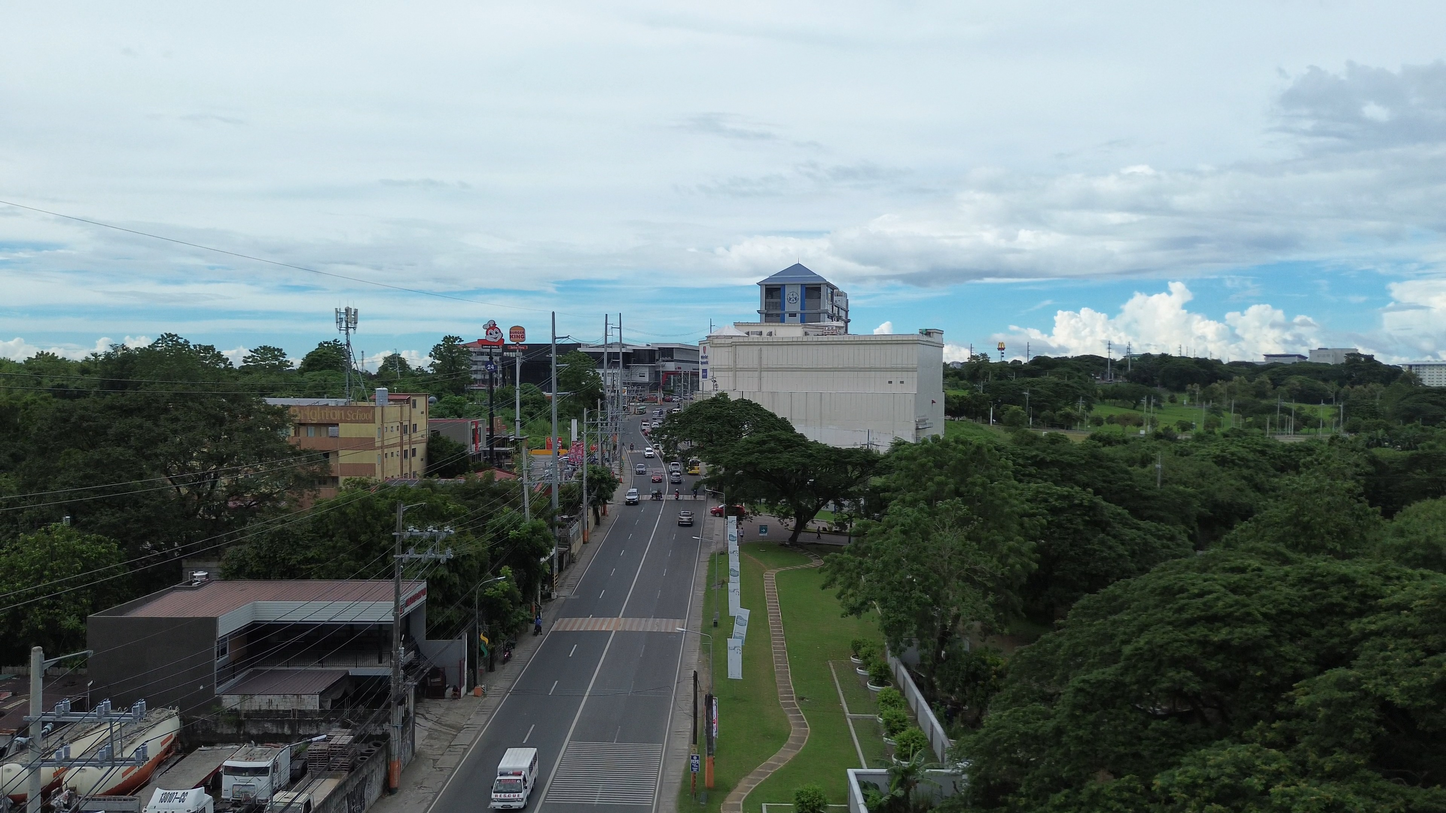car: (668, 461, 682, 471), (635, 463, 647, 474), (651, 473, 663, 483)
truck: (221, 746, 290, 804)
vehicle: (489, 748, 538, 810), (143, 788, 214, 813), (268, 791, 313, 813), (677, 511, 694, 526), (687, 457, 701, 475), (624, 489, 639, 505), (727, 505, 746, 516), (669, 472, 682, 484), (668, 461, 682, 472), (650, 489, 663, 500), (644, 447, 655, 458)
